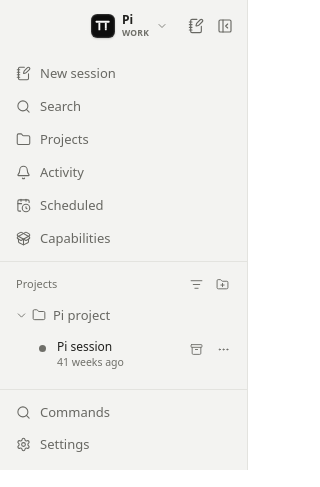
it: sidebar brand switcher › lists only harnesses with a detected executable
The width and height of the screenshot is (320, 487).
Click the button with class "brand-switcher__trigger" at (130, 26), box [86,11,173,41]
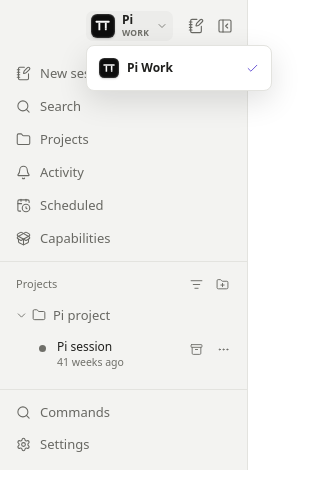
Now the menu is shown, box [86,45,272,91]
Click the menu item "Pi Work" at (179, 68), box [91,50,267,86]
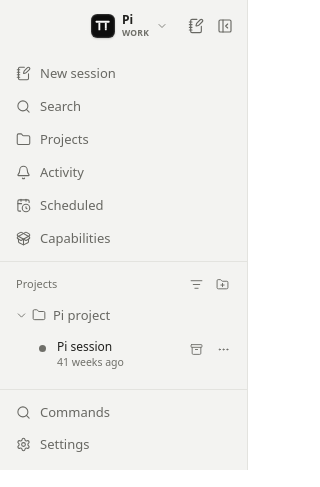
Now the menu is gone
